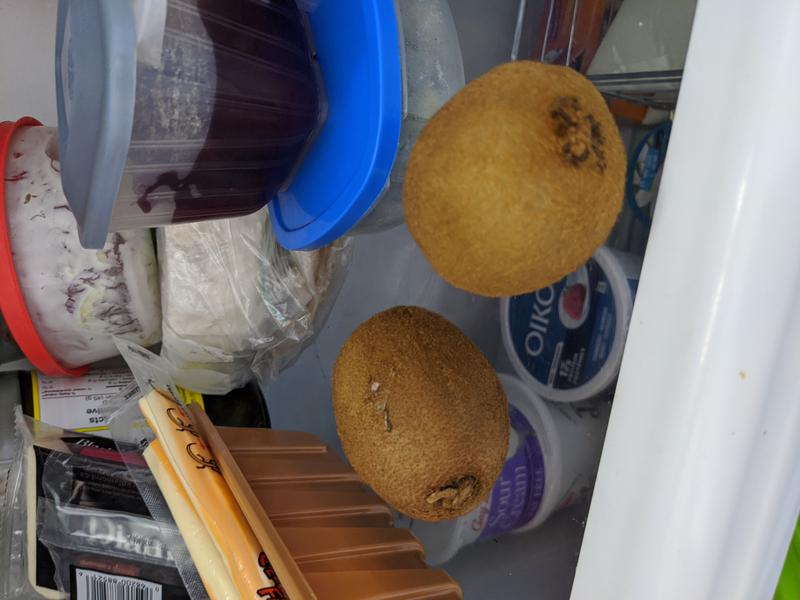kiwi: (402, 60, 627, 299), (330, 306, 512, 524)
